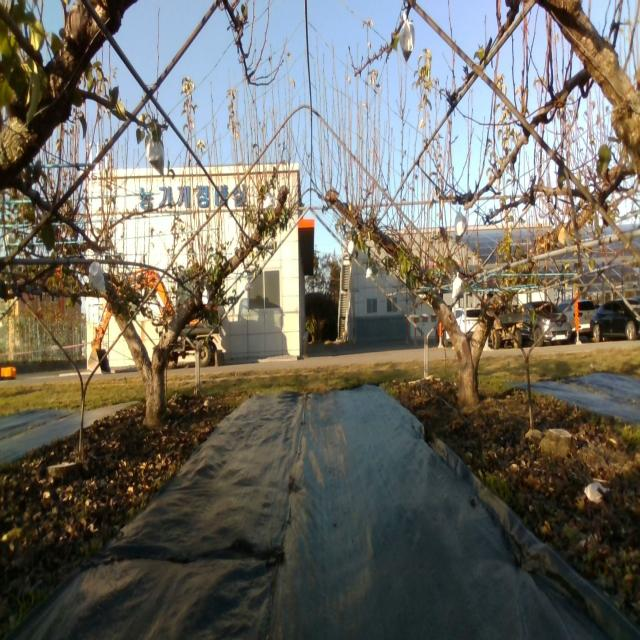pearbags: (399, 10, 415, 63), (146, 138, 164, 178), (88, 260, 107, 292), (454, 207, 467, 243), (452, 272, 464, 300)
